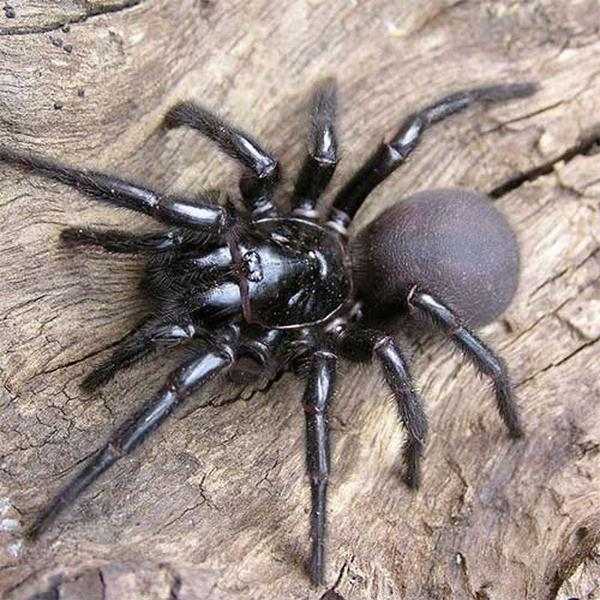Funnel Web Spider: (9, 84, 547, 536)
